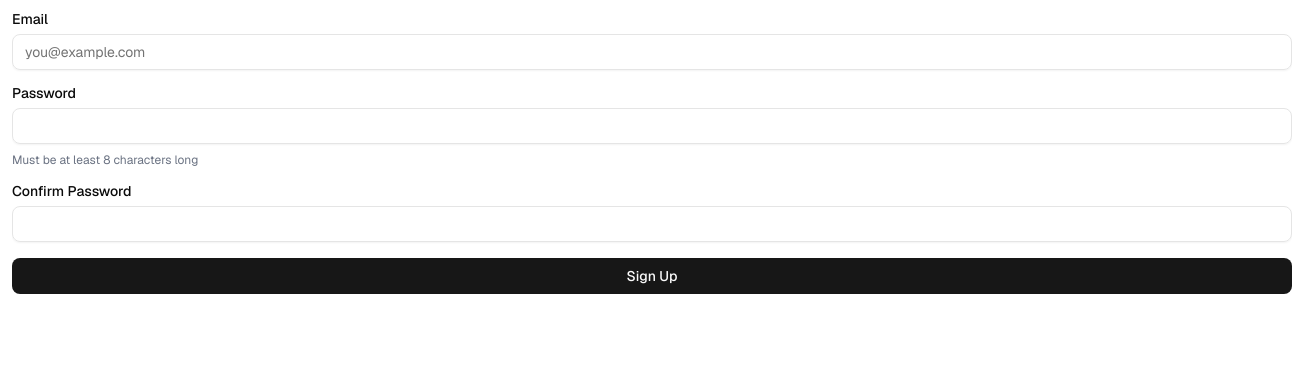
Test case: password mismatch validation › shows error when passwords do not match
Step 1. Type "user@example.com" into the field labelled "Email" → (652, 52), box [12,34,1292,70]
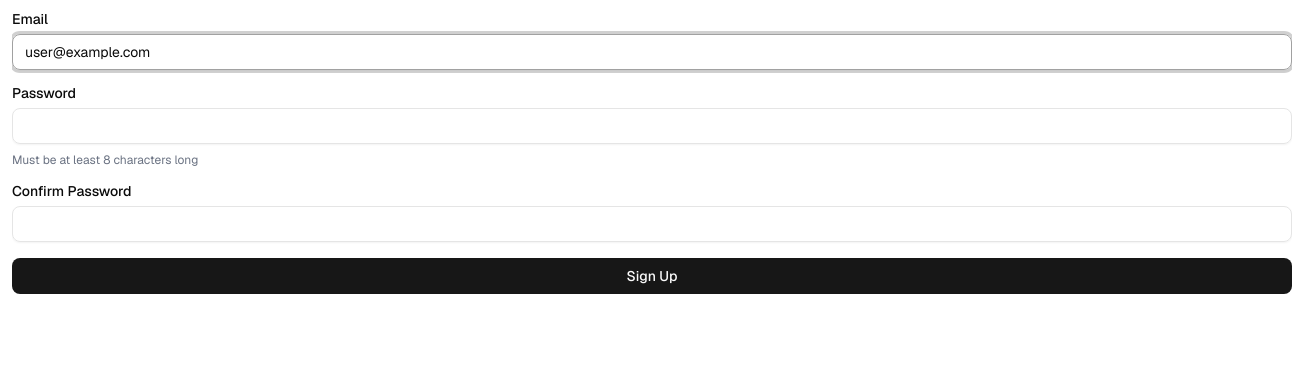
Step 2. Type "password1" into the password field labelled "Password" → (652, 126), box [12,108,1292,144]
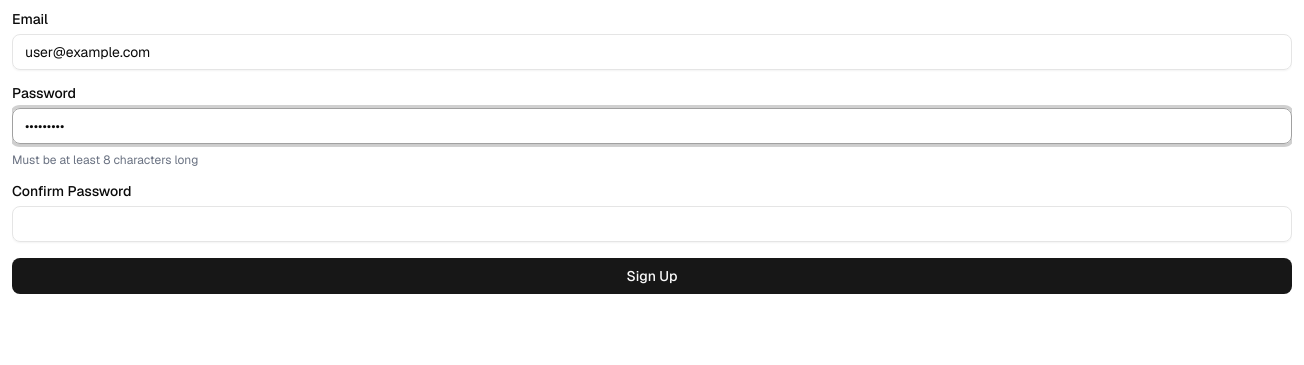
Step 3. Type "password2" into the password field labelled "Confirm Password" → (652, 224), box [12,206,1292,242]
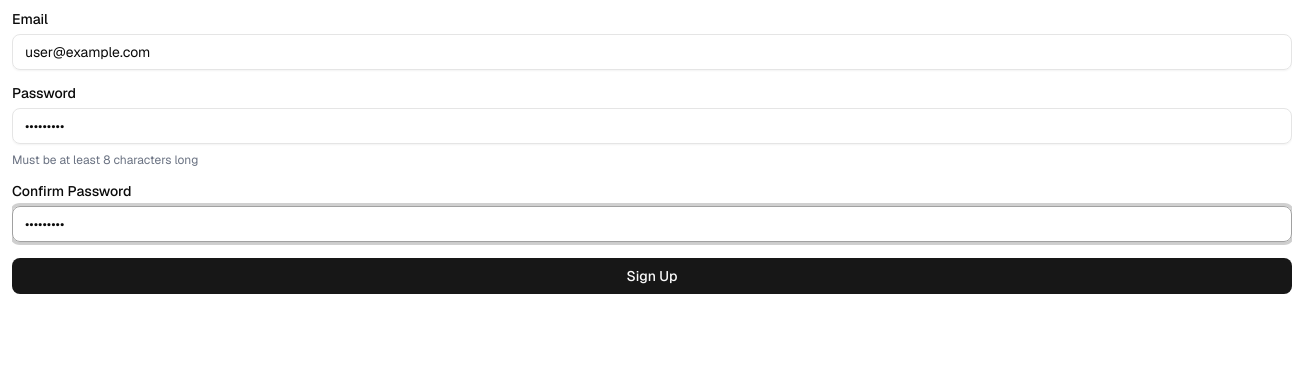
Step 4. Submit the form
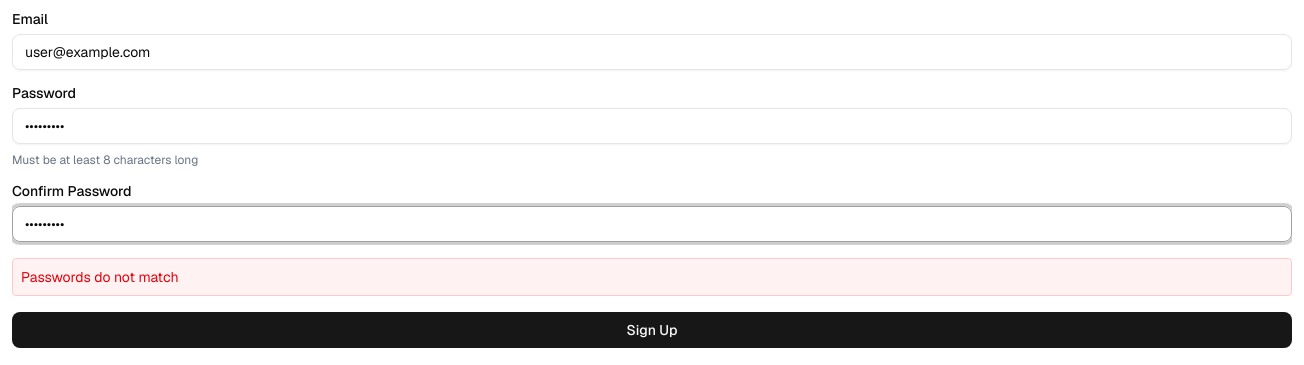
Now the text "Passwords do not match" is shown, box [12,258,1292,296]
